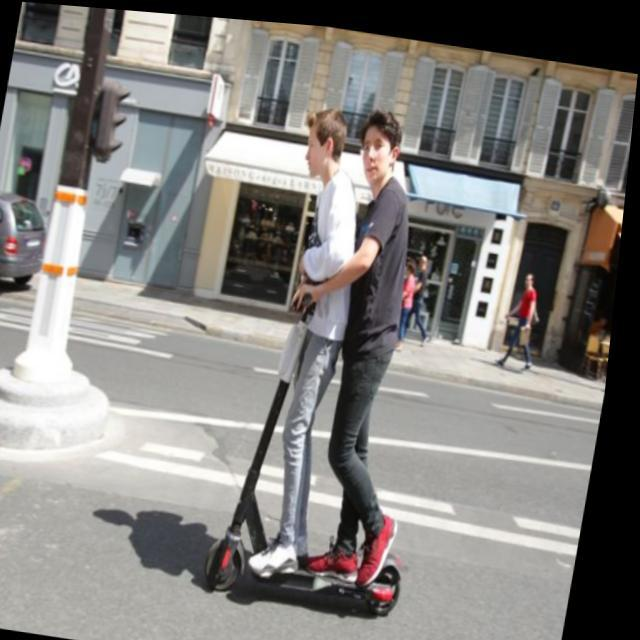Nonhelmet: (353, 92, 407, 185), (294, 96, 344, 172)
